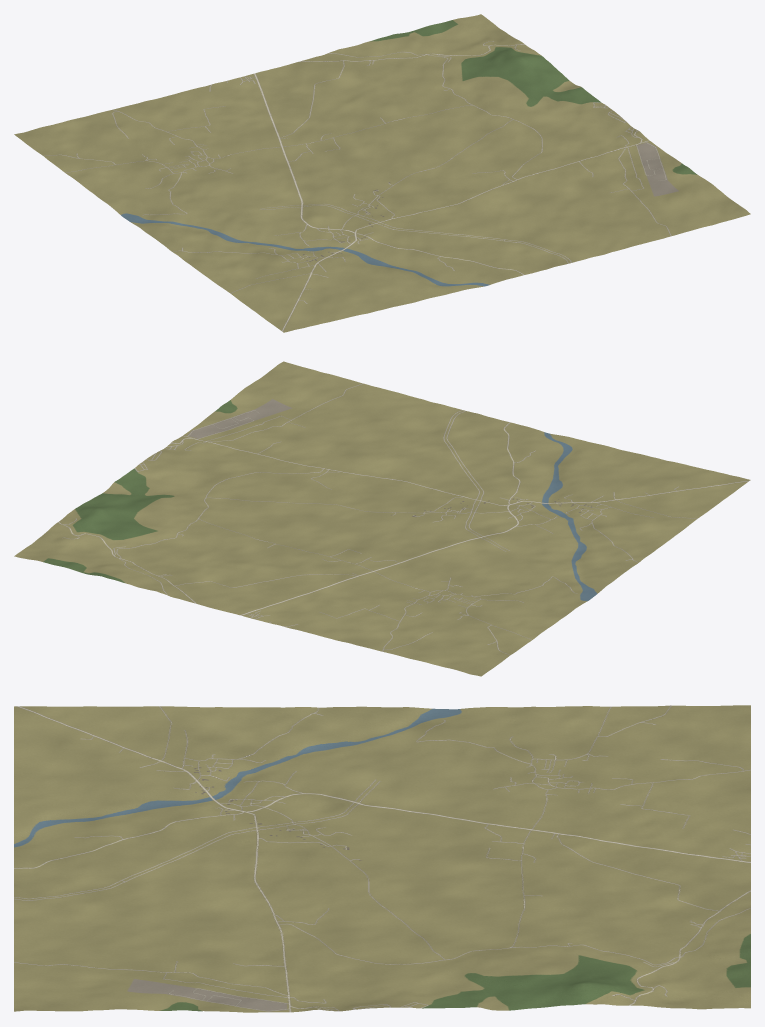
Rendered from terrain.glb.
3 renders of one model, top to bottom at view 1: azimuth 30°, elevation 25°; view 2: azimuth 150°, elevation 25°; view 3: azimuth 270°, elevation 25°, orthographic. The views are drawn at different scales.
Parts seen in each view (by area): view 1: terrain; view 2: terrain; view 3: terrain.
Boxes of the visible parts, bbox=[...] form: terrain: bbox=[14, 14, 750, 332]; terrain: bbox=[14, 361, 750, 676]; terrain: bbox=[14, 705, 750, 1012].
Bounding box in the file's own units: 4000 × 141 × 4000.
1 material, 1 textured.
